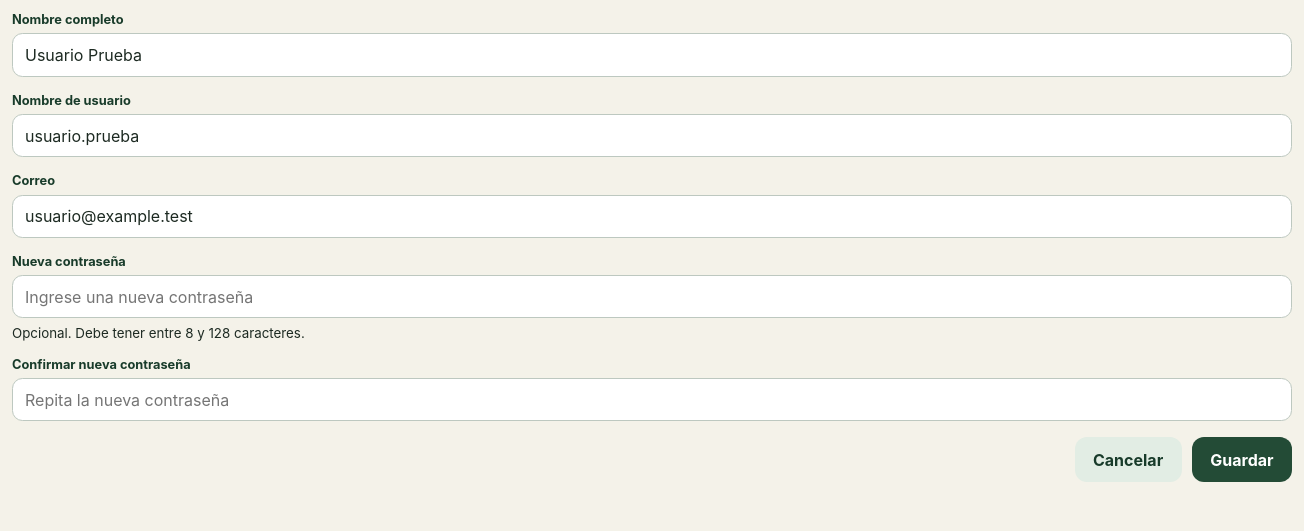
it: FormularioUsuario › impide guardar si falta la confirmación o las contraseñas no coinciden
This screenshot has width=1304, height=531.
In the password field labelled "Nueva contraseña": (652, 297) [12,275,1292,318], type "contrasena-nueva"
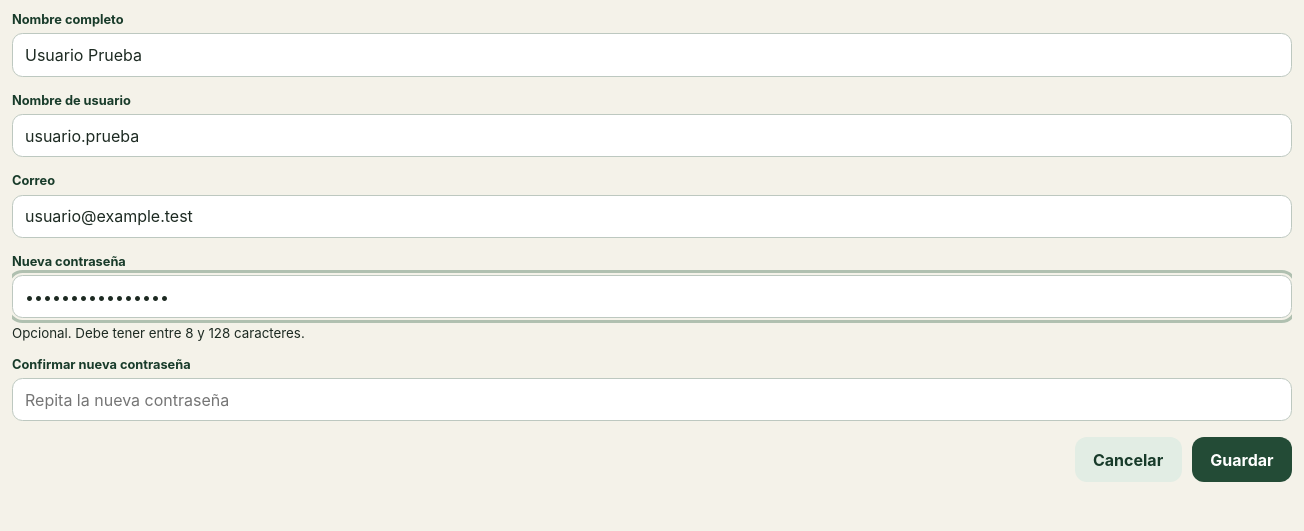
Click the button "Guardar": (1242, 460) [1192,437,1292,482]
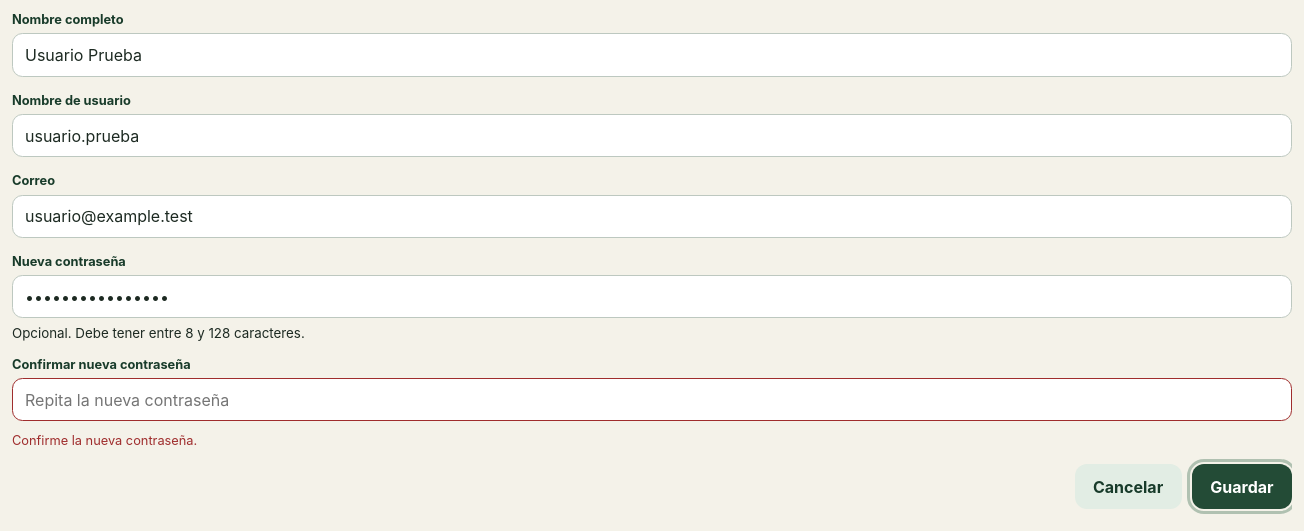
Result: the text "Confirme la nueva contraseña." is shown at [12,433,197,448]
In the password field labelled "Confirmar nueva contraseña": (652, 400) [12,378,1292,421], type "otra-contrasena"
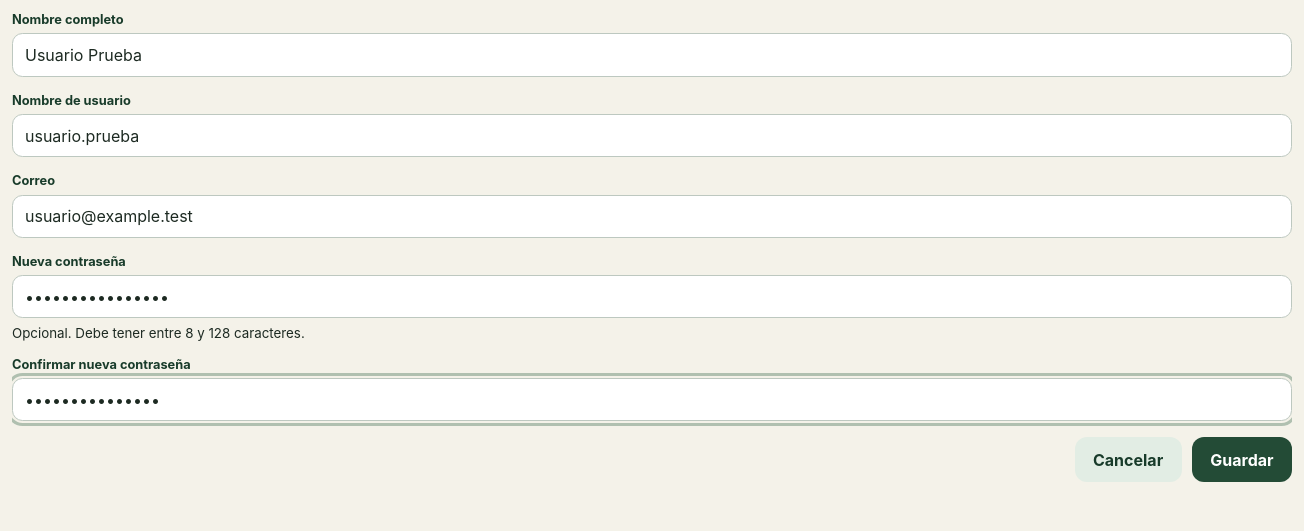
Click the button "Guardar": (1242, 460) [1192,437,1292,482]
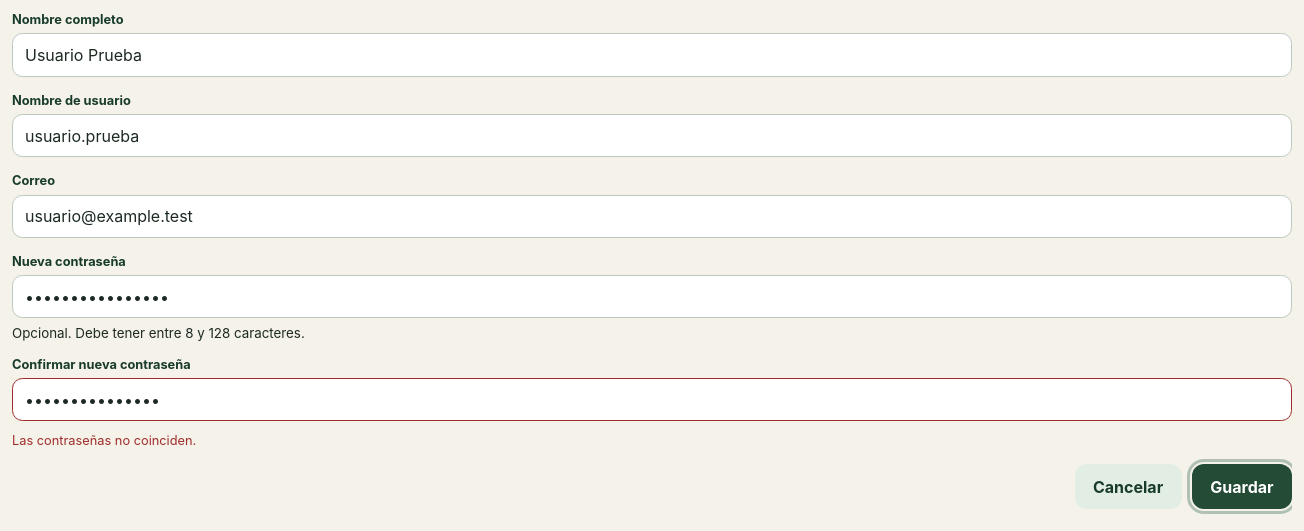
Result: the text "Las contraseñas no coinciden." is shown at [12,433,196,448]
